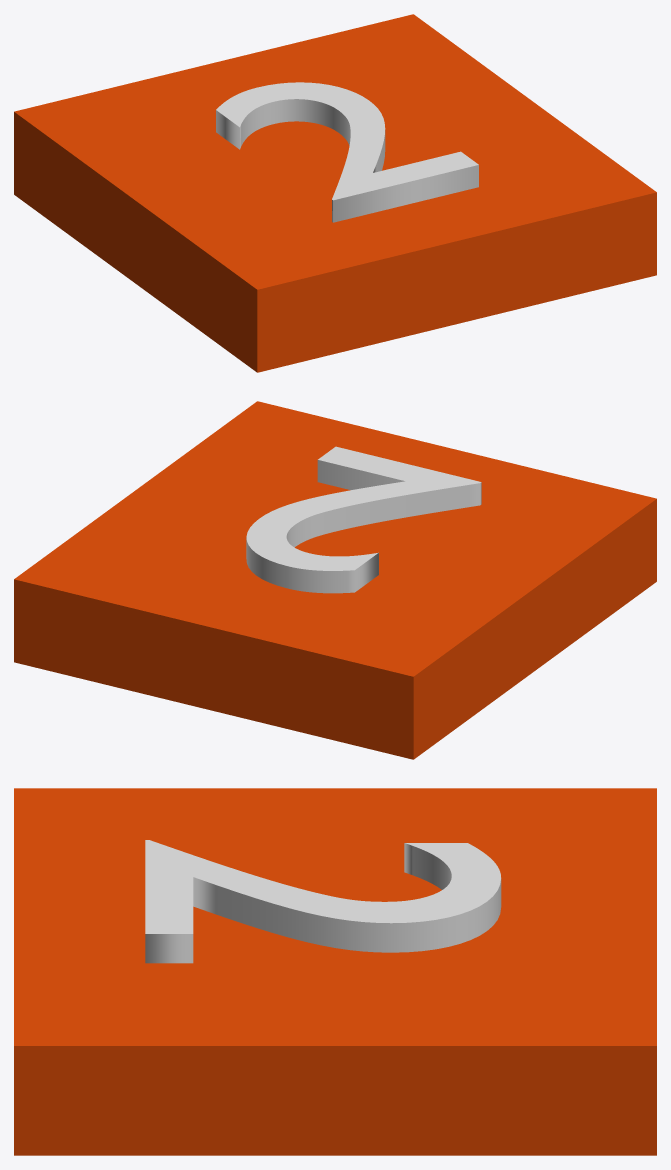
3 views of the same model, one above another, from view 1: azimuth 30°, elevation 25°; view 2: azimuth 150°, elevation 25°; view 3: azimuth 270°, elevation 25° (orthographic). The views are drawn at different scales.
Parts seen in each view (by area): view 1: Куб, Текст; view 2: Куб, Текст; view 3: Куб, Текст.
Part boxes in pixels (box(x1,y1,x2,y2)): Куб: box(14, 14, 656, 372); Текст: box(216, 82, 478, 222); Куб: box(14, 401, 656, 759); Текст: box(246, 446, 481, 593); Куб: box(14, 788, 656, 1155); Текст: box(145, 840, 501, 963).
Bounding box in the file's own units: 118 × 29.82 × 125.
